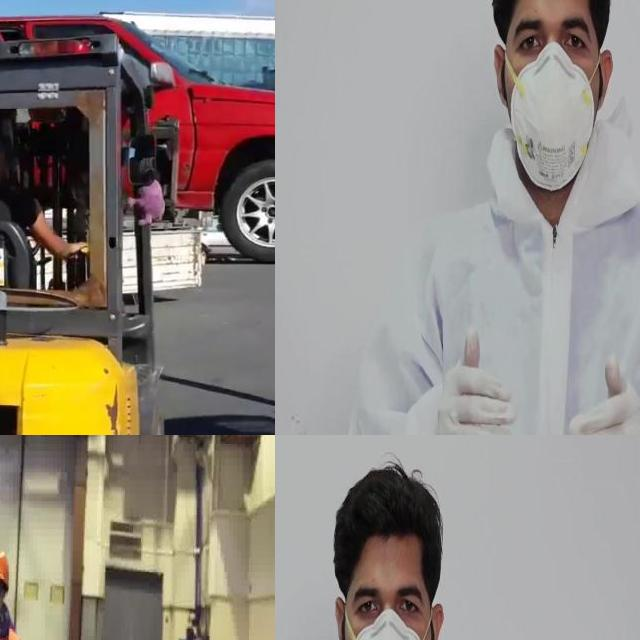Glove: (434, 324, 517, 435), (563, 353, 640, 435)
HELMET: (0, 549, 11, 589)
MASK: (510, 43, 594, 194), (350, 608, 426, 640)
